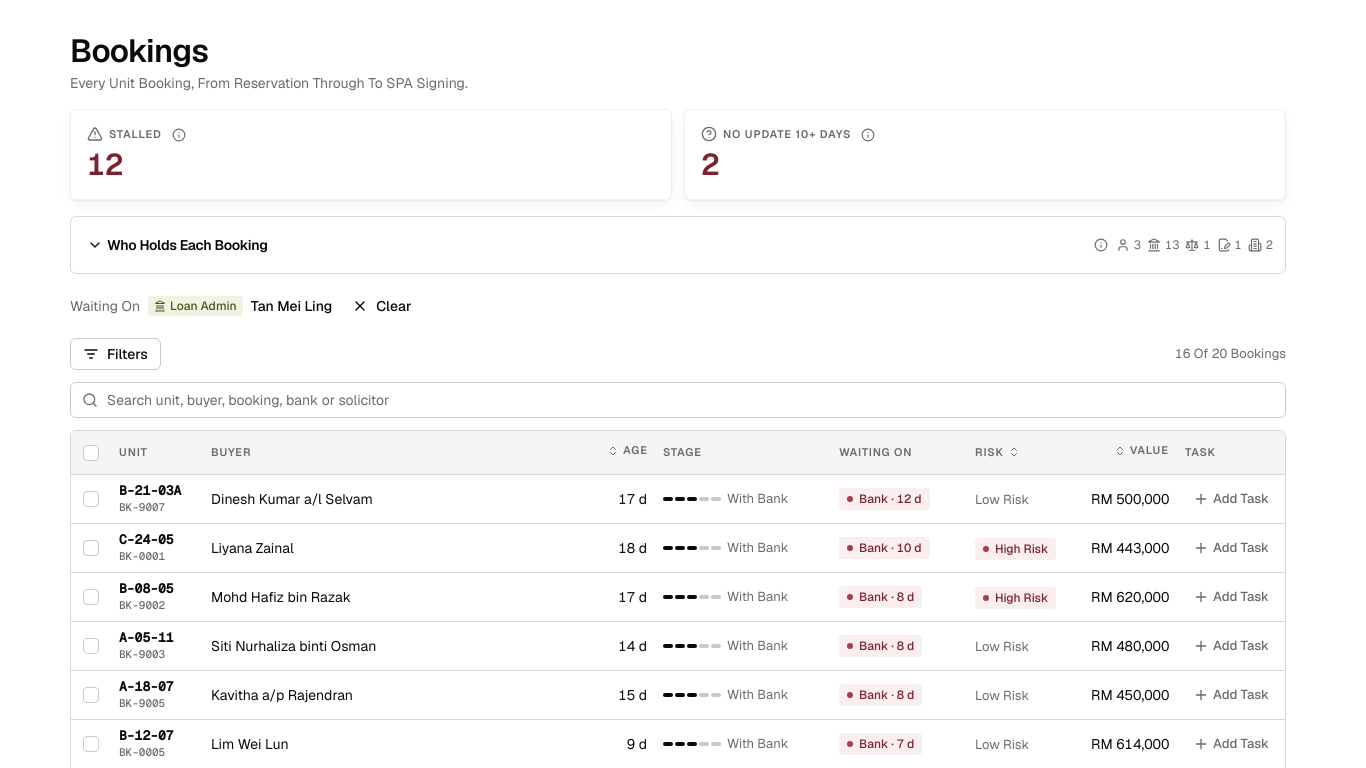
Test: BookingsPage › narrows Active to the bookings waiting on the person a Team row names, then clears
Expected: the text "Tan Mei Ling" is shown, [251,296,332,316]
Step 1. Click the button "Clear" → point(382, 306), box [340,290,424,322]
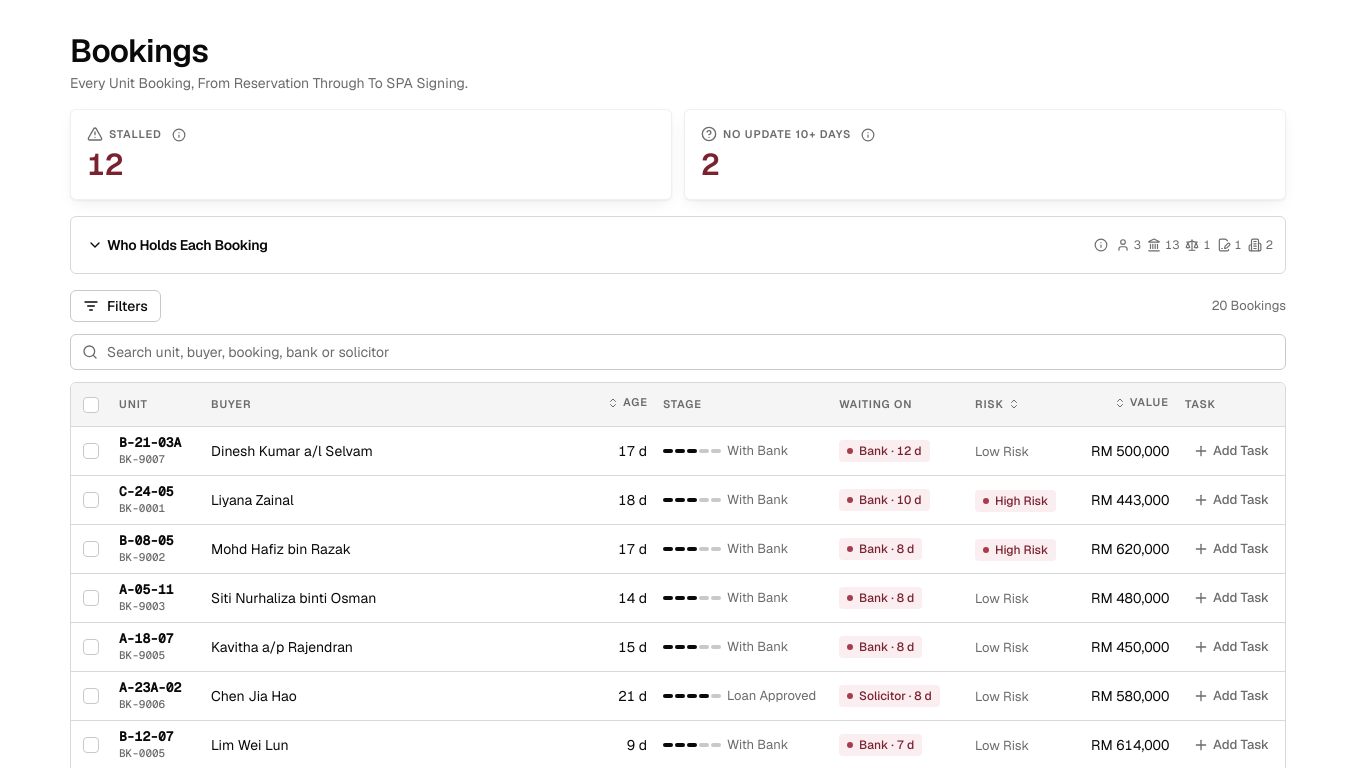
Now the button "Clear" is gone
